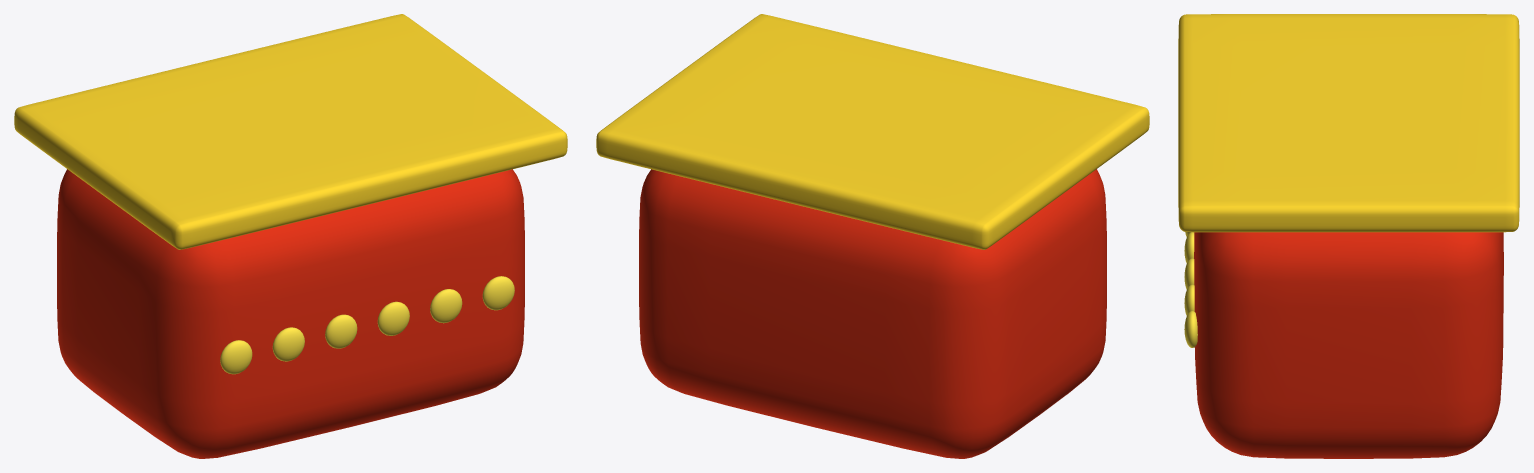
The model's file is HotpotBase.glb.
3 views of the same model, side by side, from view 1: azimuth 30°, elevation 25°; view 2: azimuth 150°, elevation 25°; view 3: azimuth 270°, elevation 25° (orthographic). The views are drawn at different scales.
Parts seen in each view (by area): view 1: Cube, Cube.001, Sphere.002, Sphere.005, Sphere, Sphere.001, Sphere.004, Sphere.003; view 2: Cube, Cube.001; view 3: Cube.001, Cube, Sphere.005.
Boxes of the visible parts, x1,y1,x2,y2 form: Cube: (57,169,524,458); Cube.001: (14,14,567,249); Sphere.002: (325,314,357,348); Sphere.005: (482,276,514,310); Sphere: (220,340,252,374); Sphere.001: (272,327,304,361); Sphere.004: (430,289,462,323); Sphere.003: (377,301,409,335); Cube: (639,169,1106,458); Cube.001: (596,14,1149,249); Cube.001: (1178,14,1519,232); Cube: (1194,232,1503,458); Sphere.005: (1184,311,1197,347).
Bounding box in the file's own units: 0.3 × 0.1998 × 0.22.
